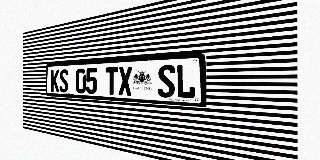0: (76, 68, 86, 94)
5: (86, 68, 97, 94)
K: (51, 69, 59, 92)
L: (176, 63, 195, 99)
S: (158, 64, 175, 98), (59, 69, 68, 93)
T: (105, 67, 118, 95)
X: (118, 66, 132, 96)
